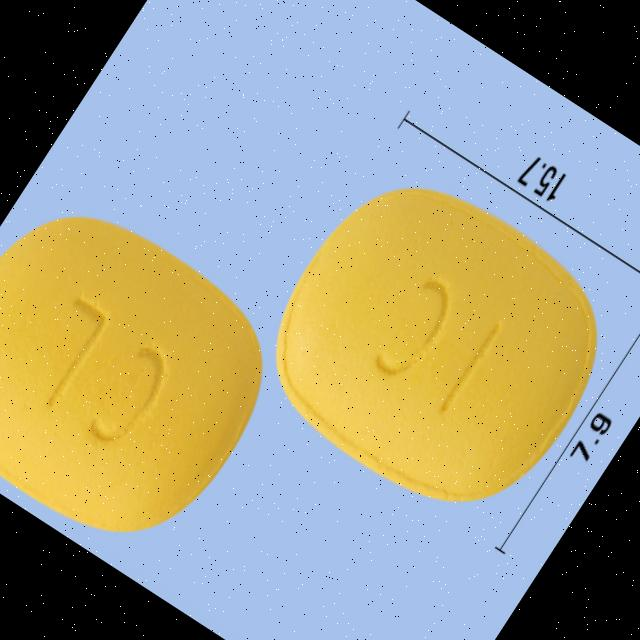Clocin: (231, 144, 640, 548), (0, 174, 303, 575)
